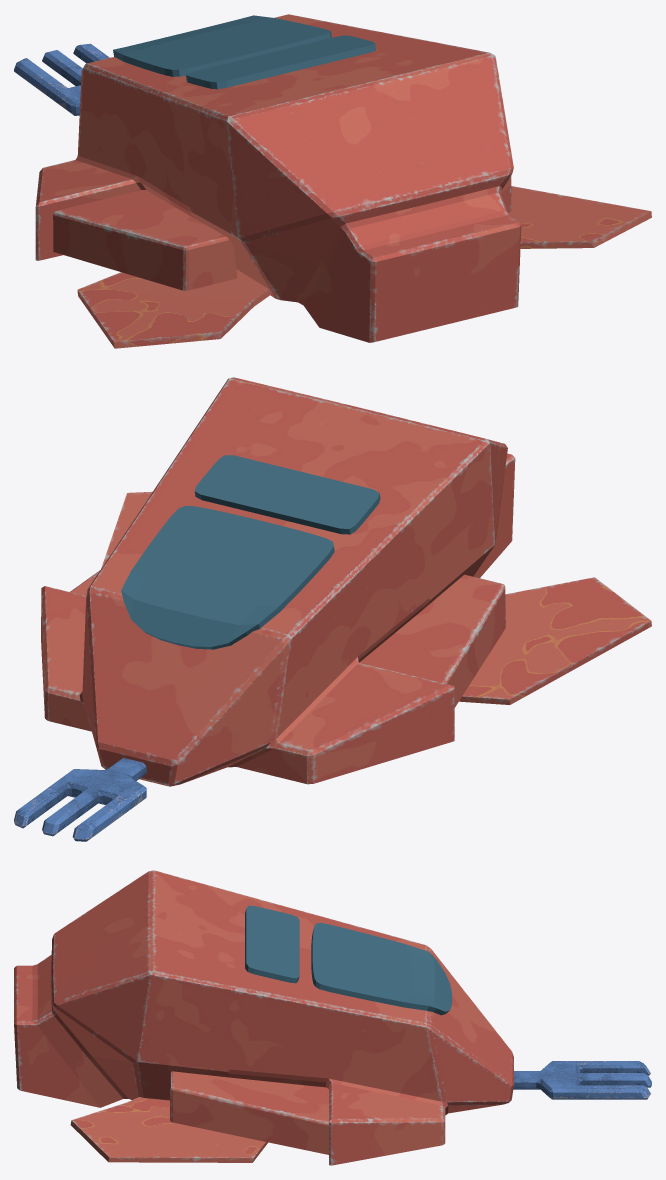
The model's file is player1.glb.
3 renders of one model, top to bottom at view 1: azimuth 30°, elevation 25°; view 2: azimuth 150°, elevation 25°; view 3: azimuth 270°, elevation 25°, orthographic. The views are drawn at different scales.
Visible parts, largest first — view 1: aileron_R, Fourchette; view 2: aileron_R, Fourchette; view 3: aileron_R, Fourchette.
Boxes of the visible parts, x1=… form: aileron_R: x1=35, y1=14, x2=651, y2=348; Fourchette: x1=14, y1=43, x2=109, y2=115; aileron_R: x1=41, y1=377, x2=651, y2=786; Fourchette: x1=14, y1=758, x2=146, y2=841; aileron_R: x1=14, y1=870, x2=513, y2=1165; Fourchette: x1=513, y1=1061, x2=651, y2=1099.
Bounding box in the file's own units: 1.73 × 0.6692 × 2.24.
1 material, 1 textured.
